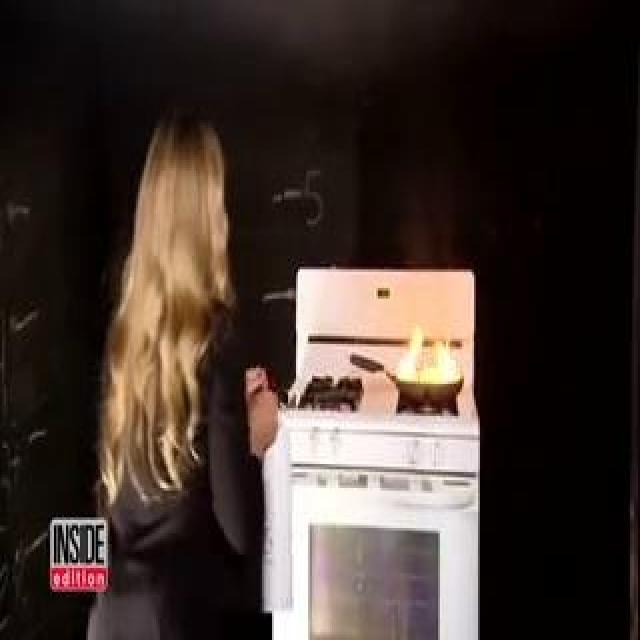Fire: (68, 112, 426, 346)
